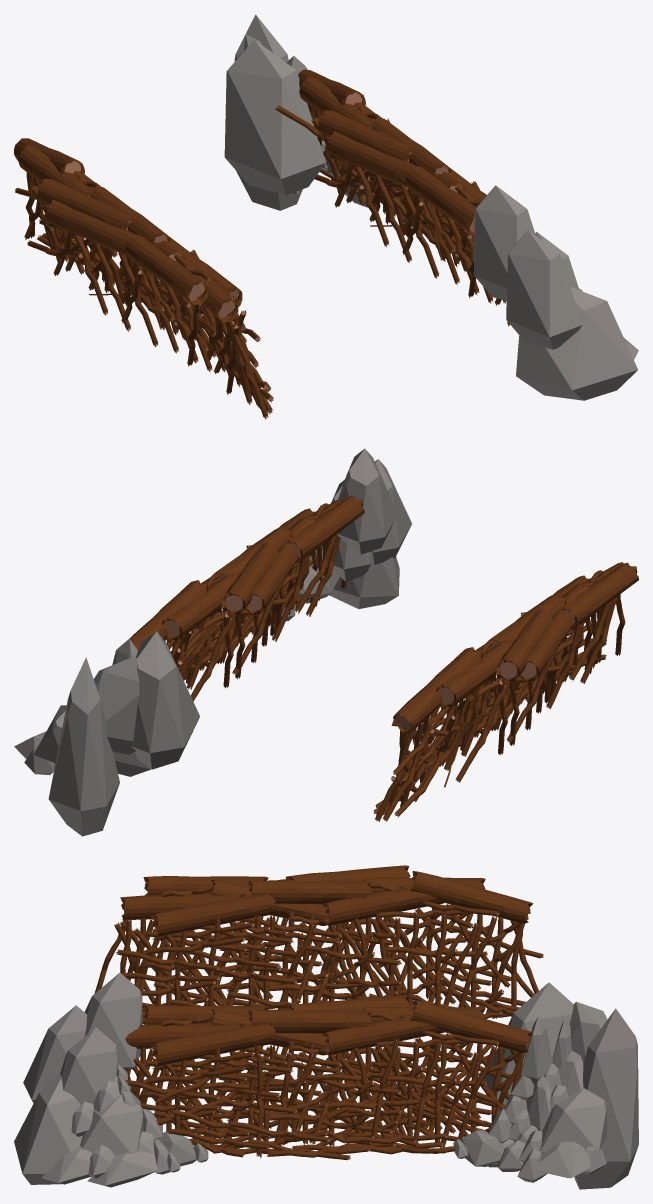
Rendered from Beaver Dam.fbx.
3 renders of one model, top to bottom at view 1: azimuth 30°, elevation 25°; view 2: azimuth 150°, elevation 25°; view 3: azimuth 270°, elevation 25°, orthographic. The views are drawn at different scales.
Visible parts, largest first — view 1: Cylinder.153, Icosphere.027, Icosphere.023, Icosphere.031, Icosphere.030, Cylinder.004, Cylinder.007, Cylinder.008, Icosphere.026, Cylinder, Cylinder.001, Cylinder.009 (+3 smaller); view 2: Cylinder.153, Icosphere.026, Icosphere.027, Icosphere.030, Icosphere.028, Icosphere.023, Cylinder.002, Cylinder.004, Cylinder, Cylinder.008, Icosphere.031, Cylinder.007 (+7 smaller); view 3: Cylinder.153, Icosphere.026, Icosphere.023, Icosphere.030, Icosphere.004, Icosphere.022, Cylinder.005, Cylinder.002, Icosphere.027, Icosphere.031, Icosphere.015, Cylinder.001 (+43 smaller).
Part boxes in pixels (left/top/right/bottom): Cylinder.153: left=298, top=69, right=509, bottom=326; Icosphere.027: left=224, top=39, right=325, bottom=195; Icosphere.023: left=516, top=287, right=637, bottom=400; Icosphere.031: left=506, top=230, right=582, bottom=349; Icosphere.030: left=473, top=185, right=535, bottom=300; Cylinder.004: left=124, top=234, right=208, bottom=304; Cylinder.007: left=46, top=199, right=136, bottom=255; Cylinder.008: left=37, top=178, right=135, bottom=230; Icosphere.026: left=234, top=14, right=302, bottom=210; Cylinder: left=18, top=145, right=93, bottom=196; Cylinder.001: left=90, top=186, right=170, bottom=244; Cylinder.009: left=167, top=245, right=238, bottom=322; Cylinder.153: left=129, top=495, right=364, bottom=701; Icosphere.026: left=48, top=657, right=119, bottom=836; Icosphere.027: left=130, top=631, right=199, bottom=769; Icosphere.030: left=337, top=448, right=395, bottom=554; Icosphere.028: left=93, top=656, right=139, bottom=754; Icosphere.023: left=329, top=556, right=399, bottom=608; Cylinder.002: left=391, top=647, right=483, bottom=734; Cylinder.004: left=559, top=562, right=638, bottom=629; Cylinder: left=436, top=640, right=511, bottom=707; Cylinder.008: left=496, top=609, right=553, bottom=681; Icosphere.031: left=369, top=459, right=411, bottom=564; Cylinder.007: left=519, top=609, right=573, bottom=680; Cylinder.153: left=125, top=994, right=532, bottom=1160; Icosphere.026: left=574, top=1008, right=638, bottom=1189; Icosphere.023: left=14, top=1073, right=82, bottom=1184; Icosphere.030: left=84, top=973, right=142, bottom=1069; Icosphere.004: left=540, top=1088, right=607, bottom=1153; Icosphere.022: left=60, top=1027, right=118, bottom=1104; Cylinder.005: left=151, top=894, right=277, bottom=936; Cylinder.002: left=410, top=871, right=533, bottom=923; Icosphere.027: left=483, top=982, right=573, bottom=1104; Icosphere.031: left=23, top=1005, right=87, bottom=1102; Icosphere.015: left=80, top=1095, right=143, bottom=1156; Cylinder.001: left=247, top=880, right=372, bottom=904.
Size of the model in its own units: 4047 by 1861 by 5346.
